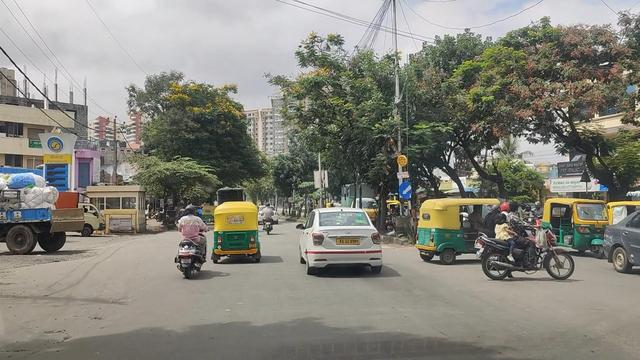LMV: (295, 210, 378, 274), (211, 194, 257, 266), (176, 204, 207, 278), (216, 205, 257, 260)
